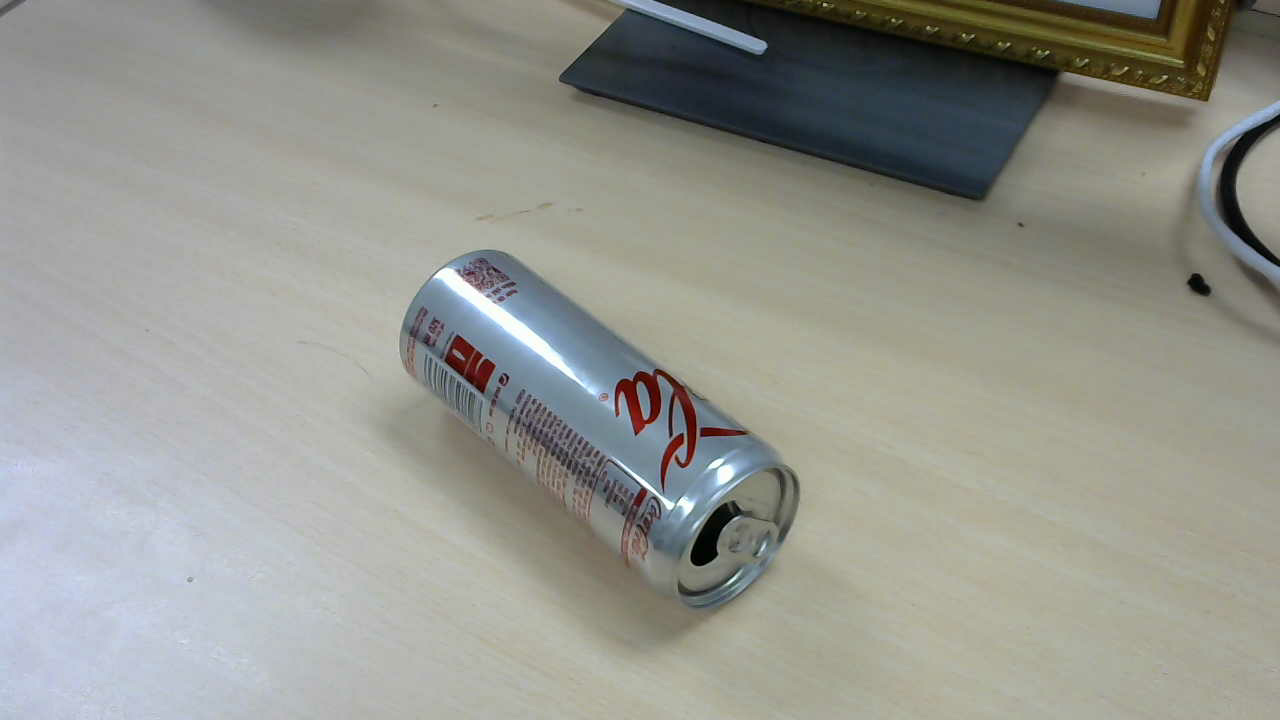Coca_Cola: (399, 251, 807, 619)
